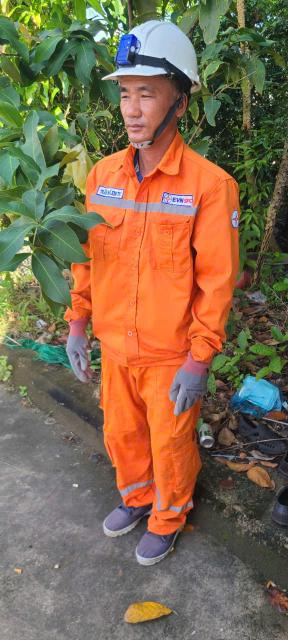gloves: (55, 320, 106, 398), (160, 351, 219, 414)
helmet: (84, 12, 206, 103)
shoes: (119, 496, 190, 568), (92, 491, 154, 535)
